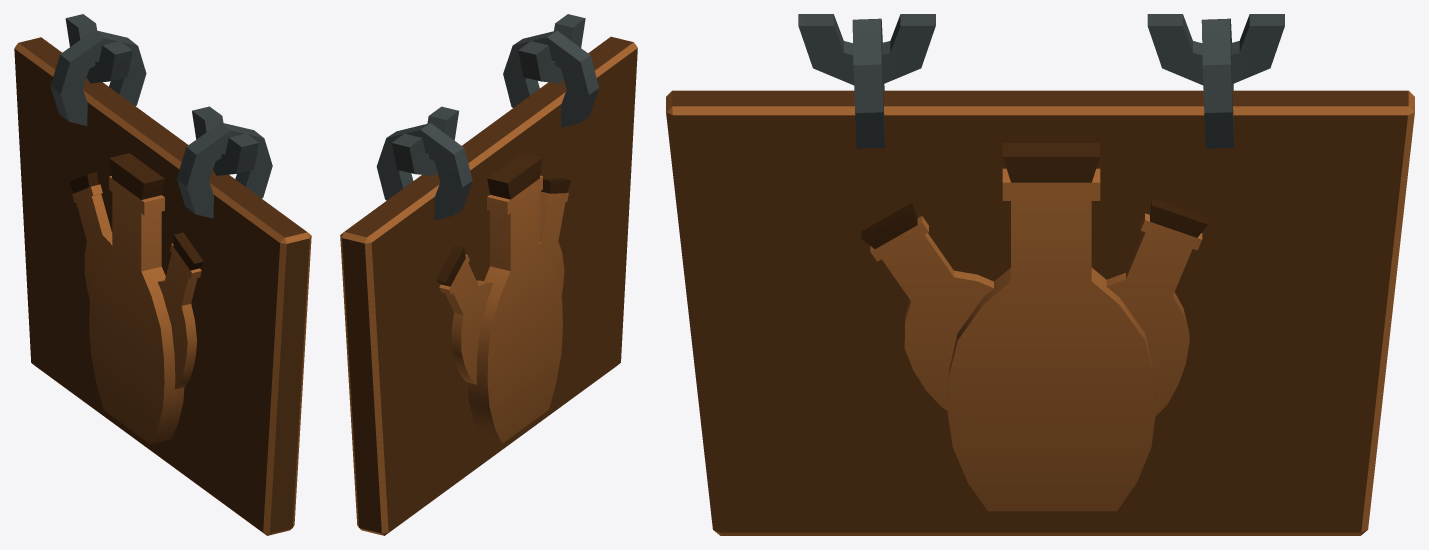
File: Sing-2.fbx
3 renders of one model, left to right at view 1: azimuth 30°, elevation 25°; view 2: azimuth 150°, elevation 25°; view 3: azimuth 270°, elevation 25°, orthographic. The views are drawn at different scales.
Parts seen in each view (by area): view 1: Sing-2; view 2: Sing-2; view 3: Sing-2.
Boxes of the visible parts, bbox=[...] form: Sing-2: bbox=[14, 14, 311, 535]; Sing-2: bbox=[340, 14, 637, 535]; Sing-2: bbox=[666, 14, 1414, 535].
Size of the model in its own units: 26 by 107 by 142.
